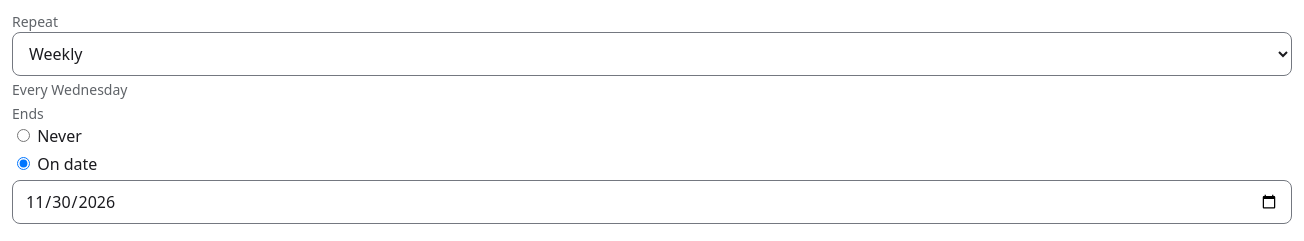
Test: changing the select (AC-1, Block 2, item 1) › back to "Does not repeat": the Ends choice and the helper leave the DOM, and repeatEnds / repeatUntil are left as they were
Select "Does not repeat" in the dropdown named "Repeat" at (652, 54), box 12,32 -> 1292,76
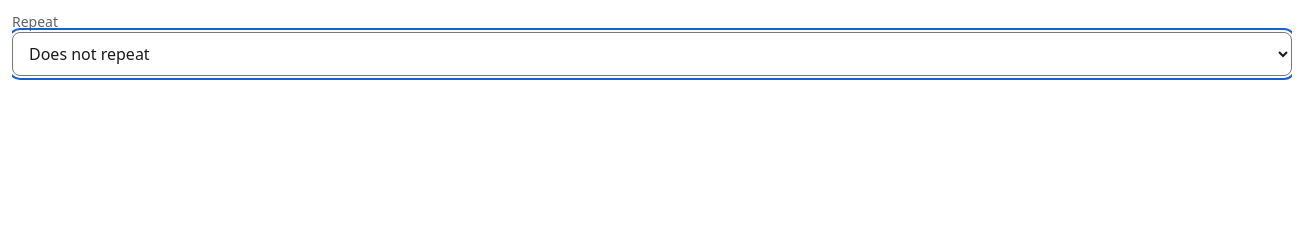
Check: the text "Every Wednesday" is gone
